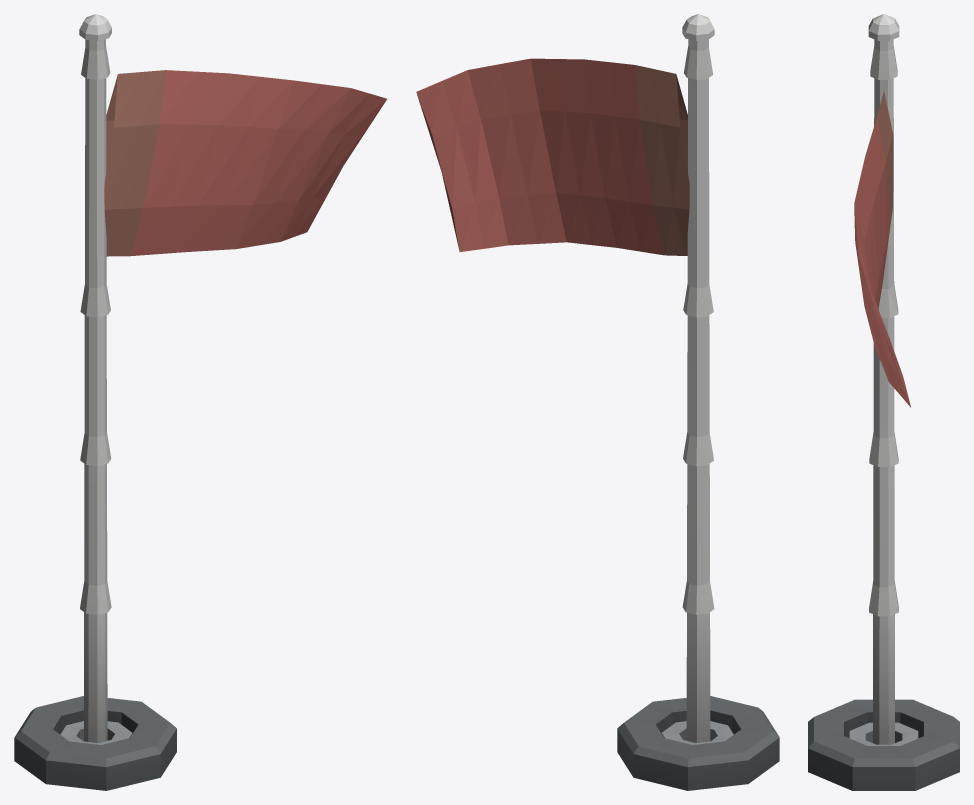
Rendered from cornerflag.glb.
The picture shows the model from 3 angles, left to right: view 1: azimuth 30°, elevation 25°; view 2: azimuth 150°, elevation 25°; view 3: azimuth 270°, elevation 25°; orthographic projection.
Visible parts, largest first — view 1: cornerflag; view 2: cornerflag; view 3: cornerflag.
Boxes of the visible parts, x1,y1,x2,y2 form: cornerflag: (14, 14, 386, 790); cornerflag: (416, 14, 779, 790); cornerflag: (808, 14, 959, 790).
Bounding box in the file's own units: 0.7453 × 1.5 × 0.2772.
